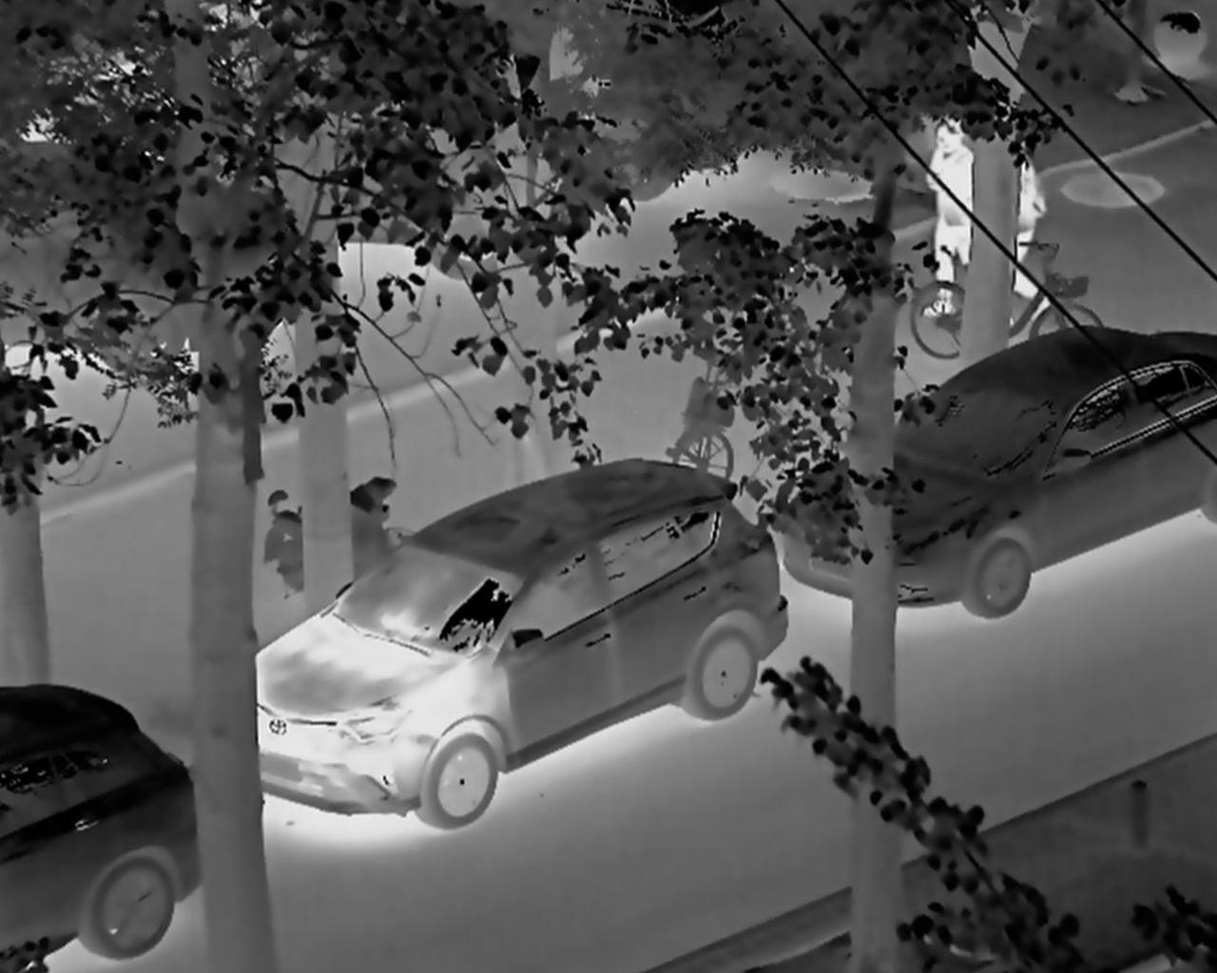person: (914, 113, 989, 349)
